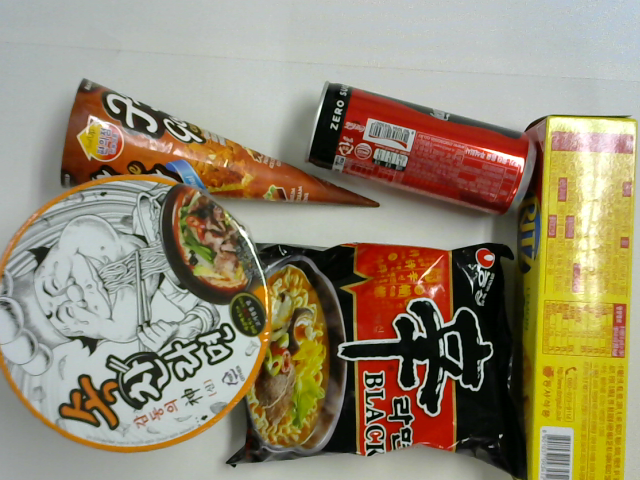Coca_Cola_Zero_Can_250ml: (304, 81, 539, 214)
GooGoo_Cone_CVS: (57, 77, 380, 221)
Hejangchan: (1, 174, 269, 449)
Ritz_Remon_96g: (516, 117, 632, 480)
Sinramen_Black: (247, 245, 511, 465)
